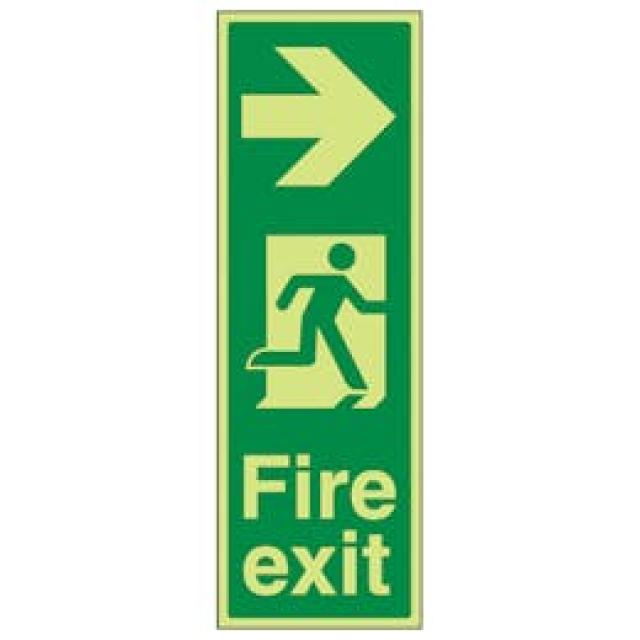exit_sign: (199, 4, 437, 635)
